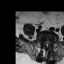CCS_stenosis: (46, 41, 47, 48)
LFS_severe_stenosis: (49, 40, 51, 46)
LLS_severe_stenosis: (47, 40, 49, 46)
RFS_severe_stenosis: (42, 41, 44, 45)
RLS_severe_stenosis: (44, 40, 46, 46)
